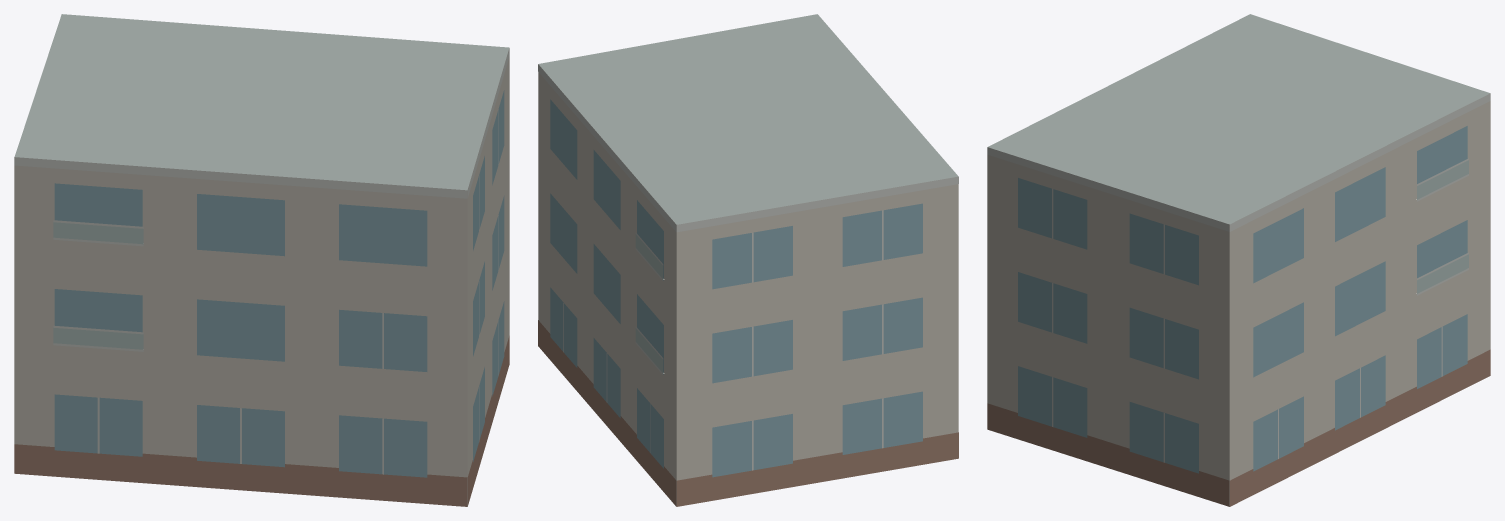
The model's file is survey-upis-32471114.glb.
The picture shows the model from 3 angles, left to right: view 1: azimuth 30°, elevation 25°; view 2: azimuth 150°, elevation 25°; view 3: azimuth 270°, elevation 25°; orthographic projection. The views are drawn at different scales.
Parts seen in each view (by area): view 1: survey-upis-32471114.tmp; view 2: survey-upis-32471114.tmp; view 3: survey-upis-32471114.tmp.
Part boxes in pixels (x1=…): survey-upis-32471114.tmp: x1=14, y1=14, x2=509, y2=506; survey-upis-32471114.tmp: x1=538, y1=14, x2=958, y2=506; survey-upis-32471114.tmp: x1=987, y1=14, x2=1490, y2=506.
Bounding box in the file's own units: 14.64 × 9.15 × 14.79.
